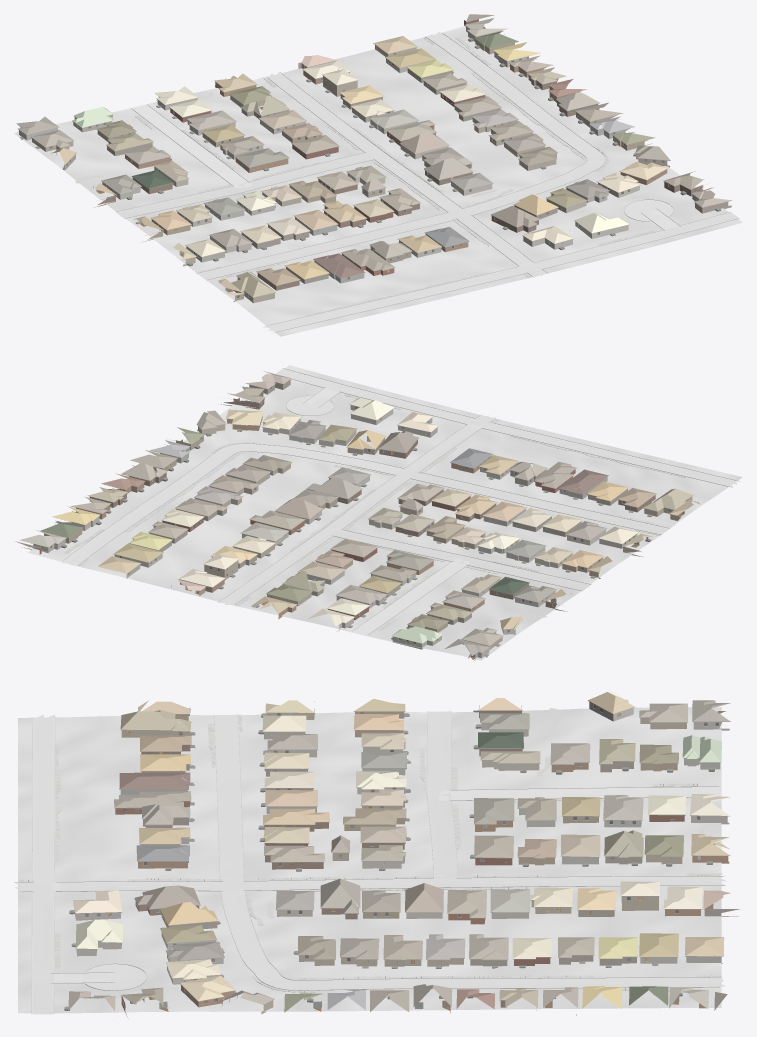
3 views of the same model, one above another, from view 1: azimuth 30°, elevation 25°; view 2: azimuth 150°, elevation 25°; view 3: azimuth 270°, elevation 25° (orthographic). The views are drawn at different scales.
Parts seen in each view (by area): view 1: ground, roof, concrete, wall, asphalt, detail, curb, walk, wall_stucco, wall_stone, glass, mark_w; view 2: ground, roof, concrete, wall, asphalt, detail, curb, walk, wall_stucco, wall_stone, mark_w; view 3: ground, roof, concrete, asphalt, wall, detail, walk, curb, wall_stucco, wall_stone, mark_w, glass (+2 smaller).
Boxes of the visible parts, bbox=[...] form: ground: bbox=[14, 26, 742, 336]; roof: bbox=[16, 14, 731, 297]; concrete: bbox=[115, 32, 678, 279]; wall: bbox=[32, 19, 731, 303]; asphalt: bbox=[263, 72, 738, 331]; detail: bbox=[18, 17, 732, 298]; curb: bbox=[115, 33, 739, 332]; walk: bbox=[75, 37, 656, 315]; wall_stucco: bbox=[73, 45, 639, 283]; wall_stone: bbox=[18, 26, 608, 257]; glass: bbox=[49, 20, 702, 297]; mark_w: bbox=[231, 73, 730, 328]; ground: bbox=[28, 365, 742, 660]; roof: bbox=[15, 371, 700, 655]; concrete: bbox=[61, 388, 669, 635]; wall: bbox=[39, 379, 692, 649]; asphalt: bbox=[217, 368, 737, 604]; detail: bbox=[30, 378, 692, 657]; curb: bbox=[62, 368, 739, 635]; walk: bbox=[64, 394, 686, 630]; wall_stucco: bbox=[55, 405, 643, 649]; wall_stone: bbox=[24, 418, 555, 661]; mark_w: bbox=[221, 373, 730, 602]; ground: bbox=[18, 707, 721, 1013]; roof: bbox=[68, 691, 730, 1012]; concrete: bbox=[54, 711, 725, 990]; asphalt: bbox=[15, 714, 726, 1014]; wall: bbox=[115, 708, 739, 1016]; detail: bbox=[64, 700, 736, 1010]; walk: bbox=[19, 708, 722, 992]; curb: bbox=[14, 711, 724, 1013]; wall_stucco: bbox=[77, 701, 722, 984]; wall_stone: bbox=[75, 699, 729, 964]; mark_w: bbox=[42, 715, 724, 1013]; glass: bbox=[85, 704, 718, 1007].
Size of the model in its own units: 267 by 11.83 by 259.
